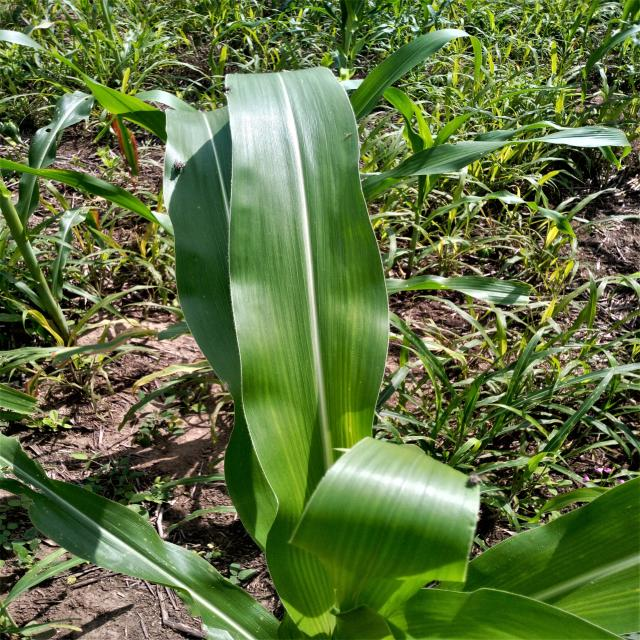healthy-maize: (230, 67, 344, 450), (364, 565, 640, 640)
